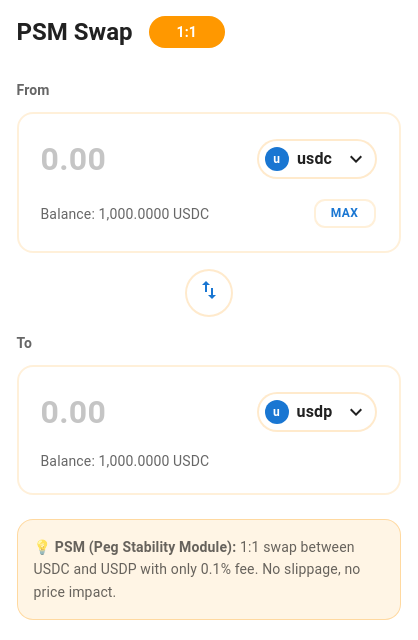
PSMSwapCard - Functional Tests › should have MAX button to use full balance
The image size is (418, 640).
What coordinates should you click on to do the following:
click the button "MAX"
I would click on:
 (344, 214)
Its box is [312, 198, 376, 229].
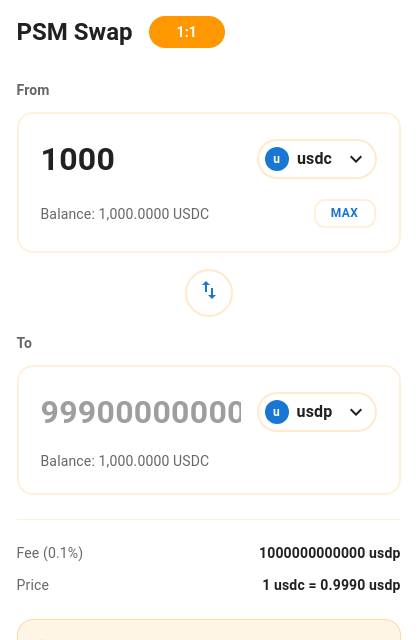
expect the field showing "1000" is shown: met, box [40, 136, 240, 182]
